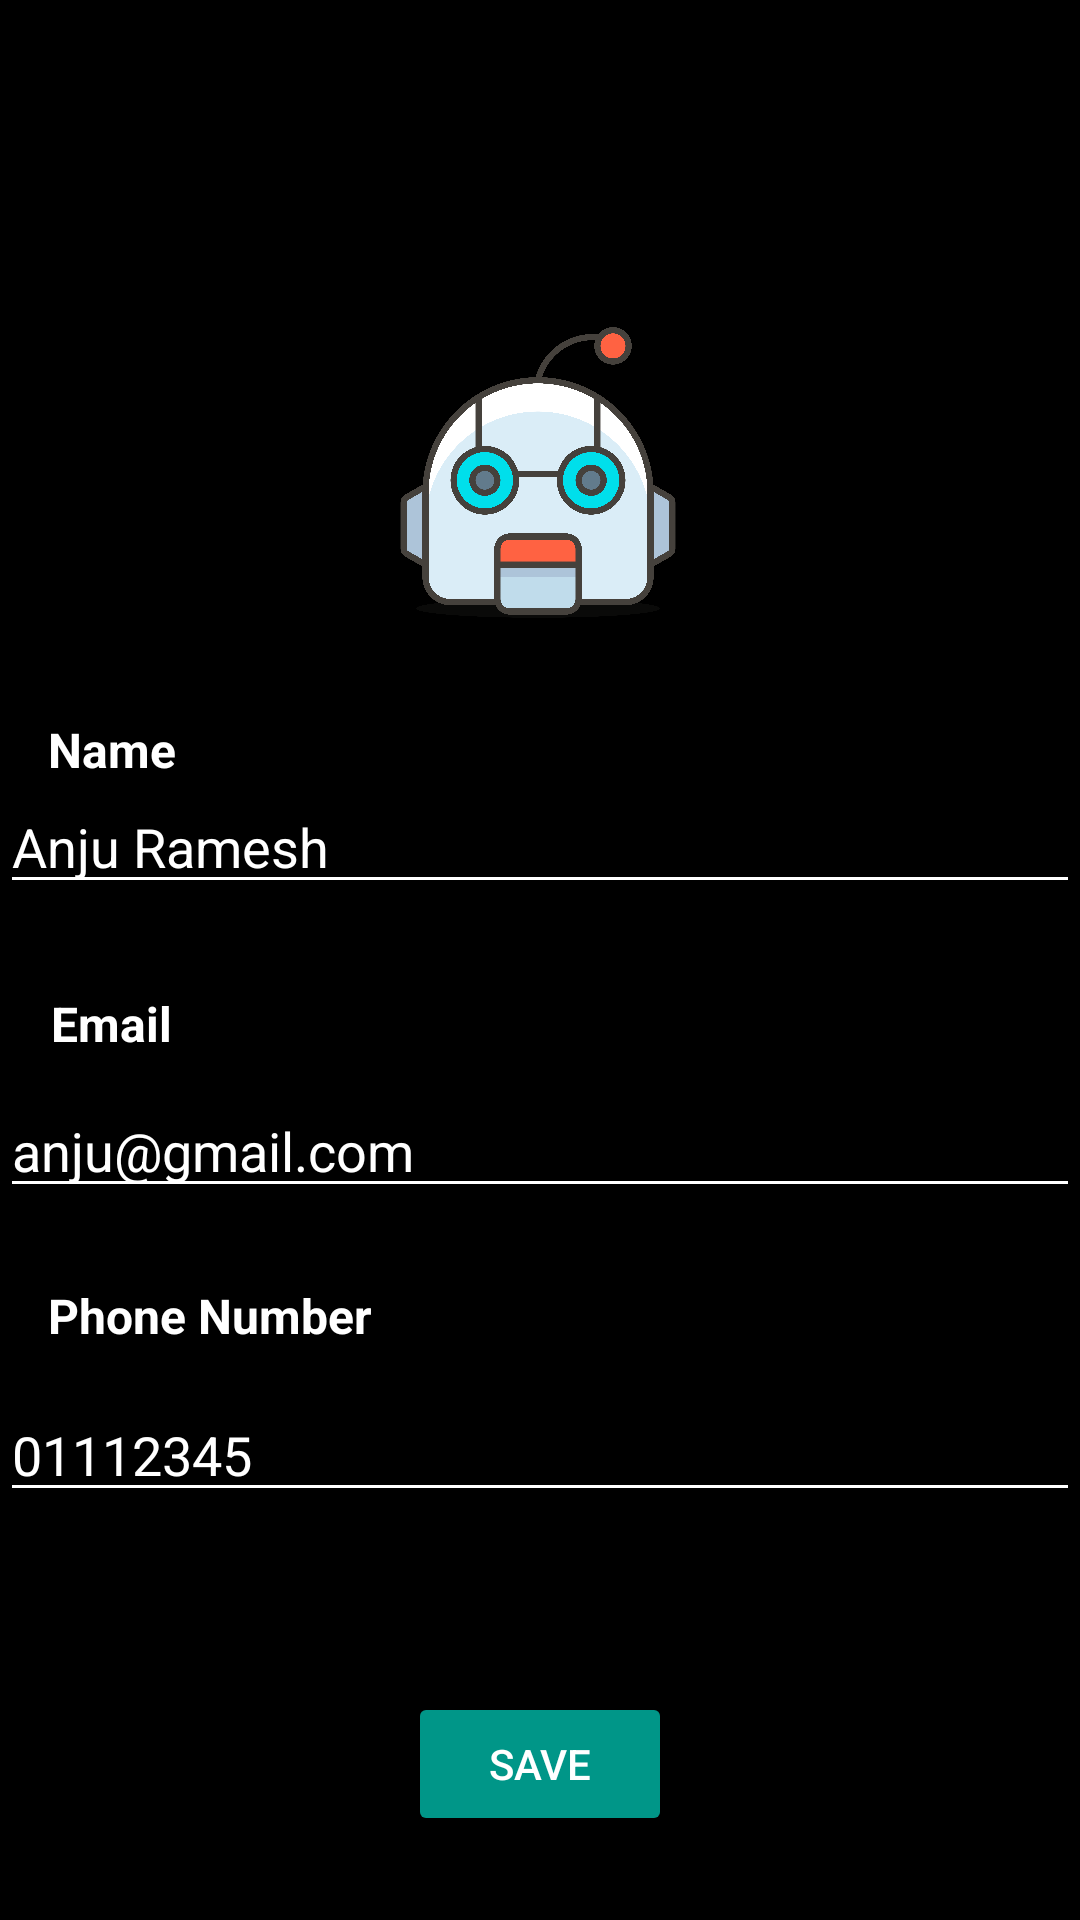

Icon click points for this 1080 × 1920 phone screenshot, format (x=x, y=y):
Profile Photo: (x=538, y=471)
